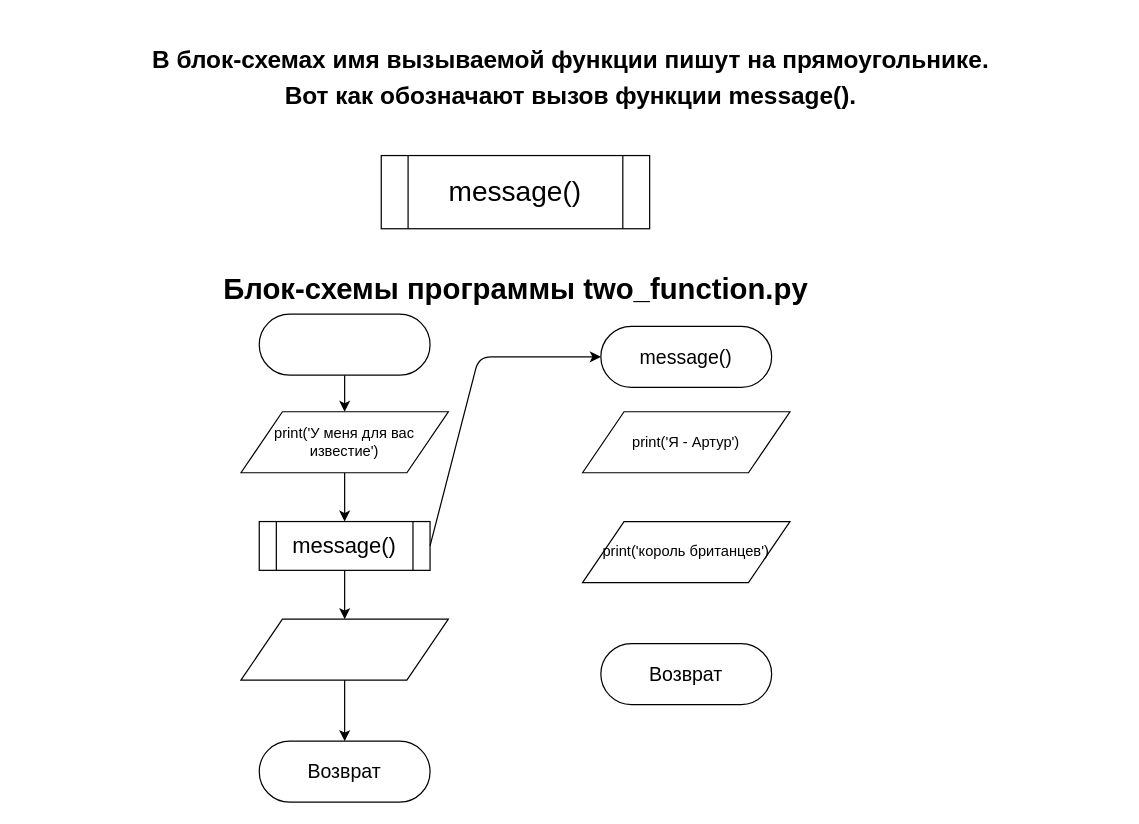
Image size: 1139x824. Some labels were removed from this diagram. Here are the shapes that lost their labels. From the top down, the box of each, then its label:
(258, 313, 430, 375): main()
(240, 618, 448, 680): print('До свидания!')
